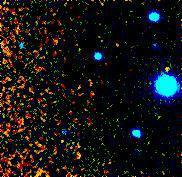star: (155, 56, 182, 86)
